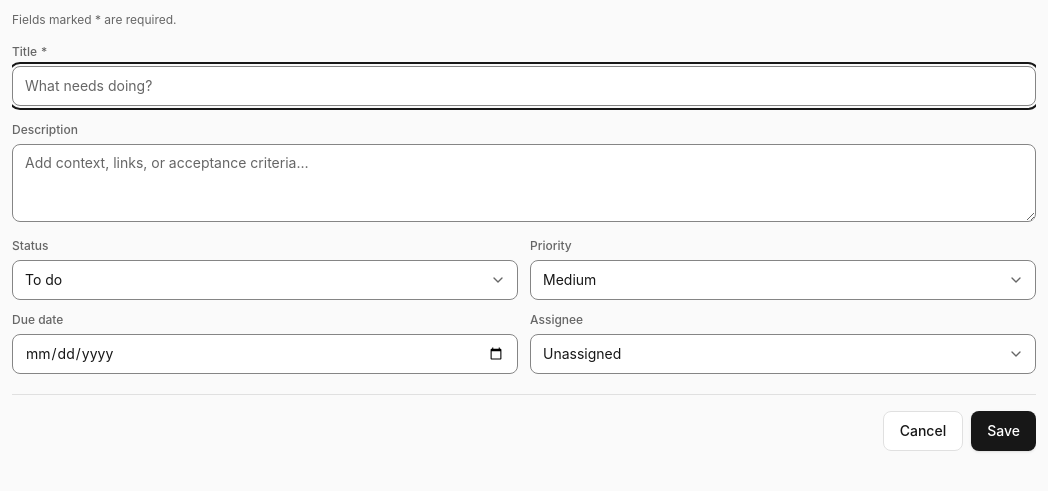
Test: TaskForm › shows backend field errors on the matching input
The image size is (1048, 491).
Type "Dup" into the field labelled "Title".
click(524, 86); type("Dup")  # box [12, 66, 1036, 106]
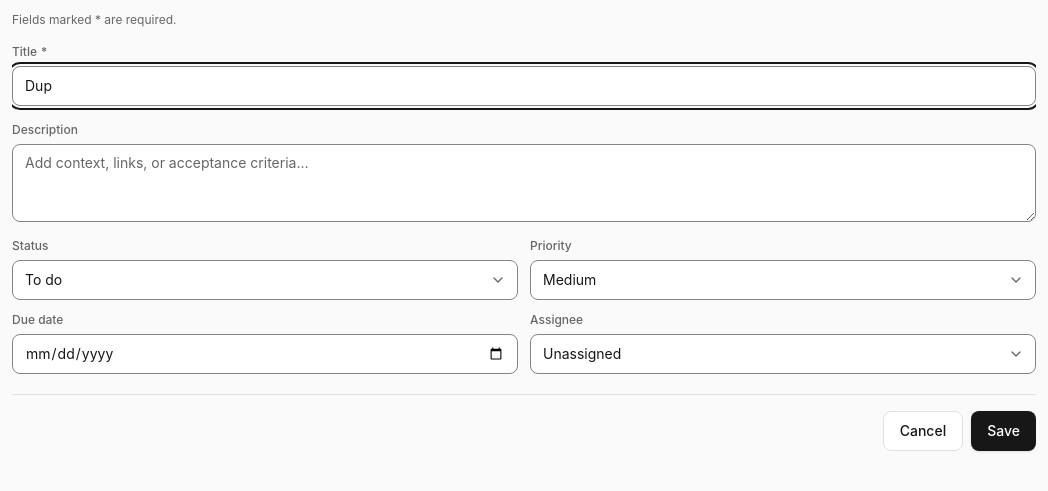
Click the button "Save".
click(1004, 431)  # box [971, 411, 1036, 451]
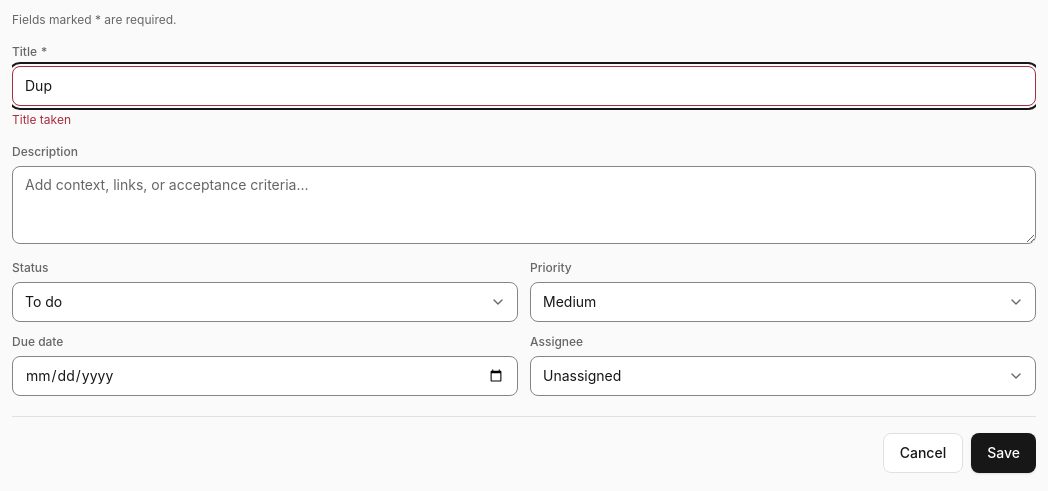
Expected: the text "Title taken" is shown, [12, 112, 71, 127]
